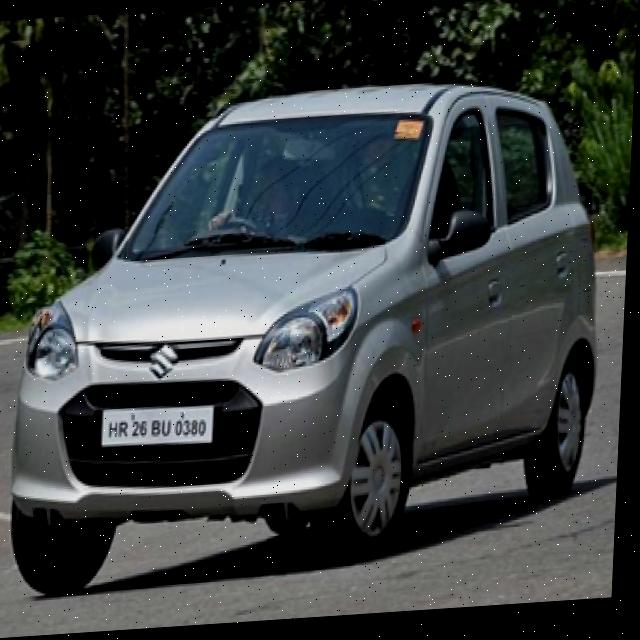plate: (101, 401, 220, 452)
